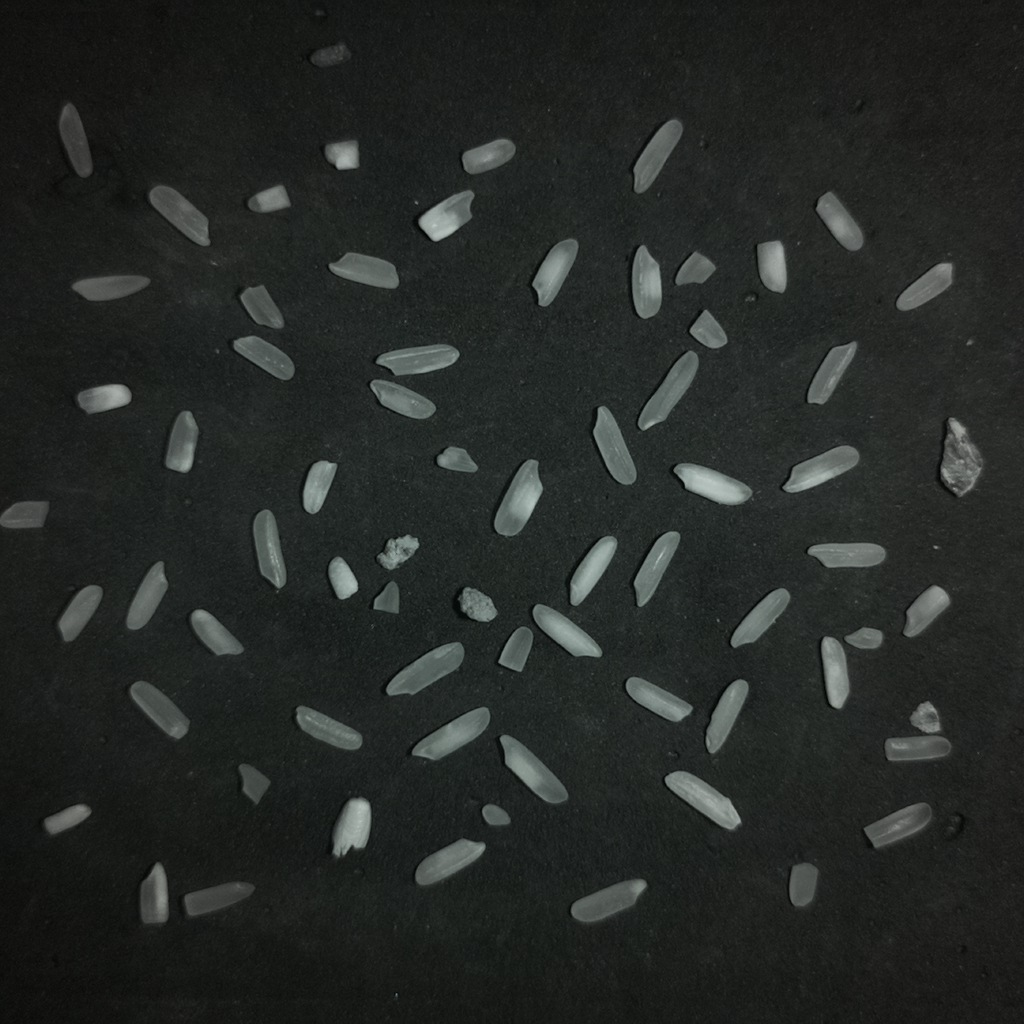broken: (495, 459, 542, 536), (730, 588, 790, 647), (705, 679, 749, 754), (863, 803, 931, 848), (625, 677, 691, 722), (125, 561, 167, 630), (815, 192, 863, 250), (57, 585, 102, 641), (183, 882, 254, 917), (189, 609, 243, 655), (903, 585, 950, 637), (164, 410, 198, 473), (138, 862, 169, 925), (461, 138, 515, 174), (239, 285, 283, 328), (884, 735, 950, 761), (498, 626, 533, 672), (42, 803, 90, 835), (689, 309, 727, 349), (788, 862, 818, 907), (0, 501, 49, 528), (675, 251, 715, 284), (238, 763, 270, 804), (435, 446, 477, 472), (372, 580, 399, 613), (844, 627, 883, 649), (481, 803, 510, 826)
chalky: (664, 771, 740, 830), (532, 604, 601, 657), (569, 536, 617, 606), (673, 463, 752, 504), (532, 239, 578, 306), (418, 190, 473, 241), (820, 636, 850, 710), (631, 245, 661, 318), (302, 460, 337, 513), (76, 384, 131, 413), (757, 240, 786, 292), (328, 556, 358, 599), (247, 184, 290, 212), (323, 139, 358, 169)
foreign: (940, 417, 982, 496), (332, 798, 371, 857), (376, 534, 419, 570), (458, 587, 496, 621), (308, 41, 350, 67), (909, 701, 940, 733)
whole: (637, 351, 698, 430), (500, 735, 567, 803), (386, 642, 464, 695), (412, 707, 490, 760), (633, 119, 683, 194), (148, 185, 209, 246), (782, 445, 859, 492), (129, 681, 189, 739), (633, 531, 679, 606), (593, 406, 636, 484), (415, 838, 485, 885), (806, 342, 857, 405), (570, 880, 646, 922), (295, 706, 362, 750), (232, 336, 294, 380), (896, 262, 952, 310), (252, 509, 286, 588), (375, 344, 459, 375), (370, 379, 435, 419), (58, 103, 92, 177), (328, 253, 398, 288), (71, 275, 150, 301), (807, 542, 885, 567)
